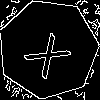X: (23, 24, 80, 80)
